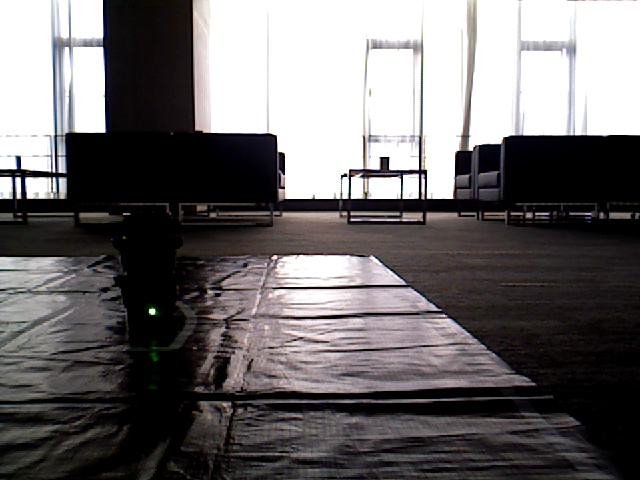green: (135, 222, 176, 329)
